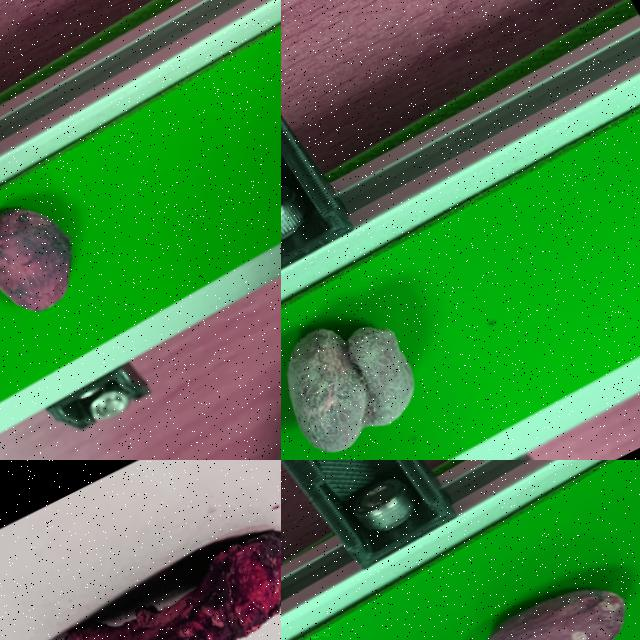Agglomerated_cocoabeans: (281, 228, 526, 459)
Fine_cocoabeans: (359, 487, 639, 639), (0, 148, 145, 370)
Flat_cocoabeans: (0, 460, 280, 639)
